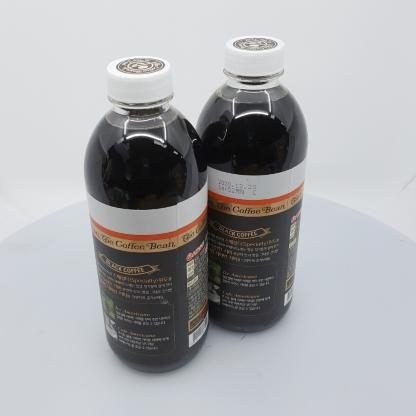--------: (83, 56, 208, 374), (195, 35, 307, 332)
